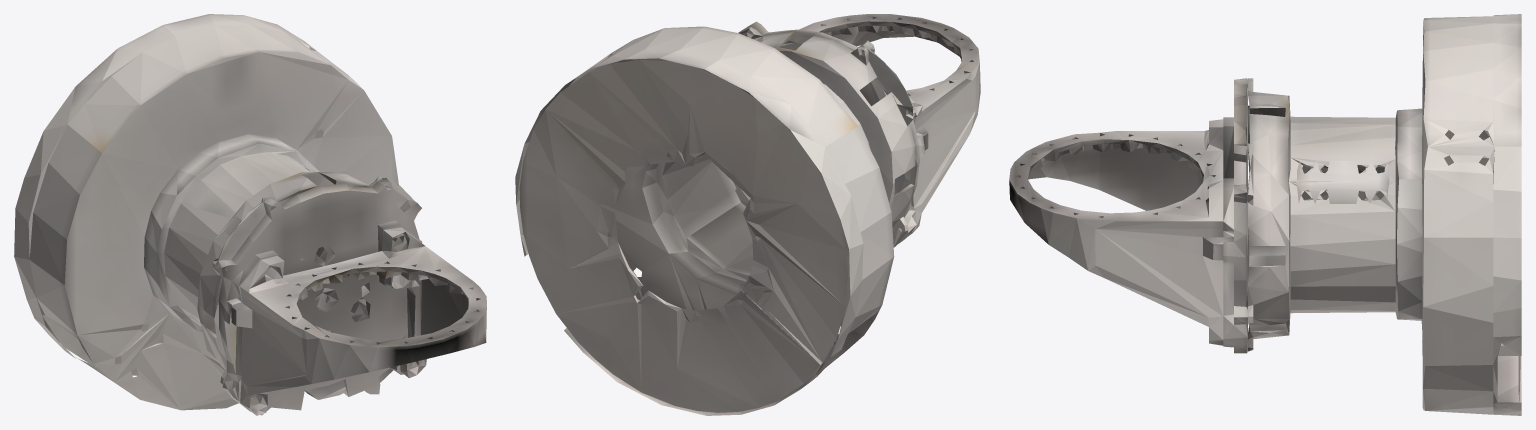
File: RSM.gltf
The picture shows the model from 3 angles, left to right: view 1: azimuth 30°, elevation 25°; view 2: azimuth 150°, elevation 25°; view 3: azimuth 270°, elevation 25°; orthographic projection. The views are drawn at different scales.
Parts seen in each view (by area): view 1: Mesh_0; view 2: Mesh_0; view 3: Mesh_0.
Boxes of the visible parts, left/top/right/bottom form: Mesh_0: left=14, top=14, right=486, bottom=415; Mesh_0: left=515, top=14, right=980, bottom=415; Mesh_0: left=1009, top=14, right=1521, bottom=415.
Bounding box in the file's own units: 0.2286 × 0.2262 × 0.2908.
Materials: 1 (1 with a texture image).
